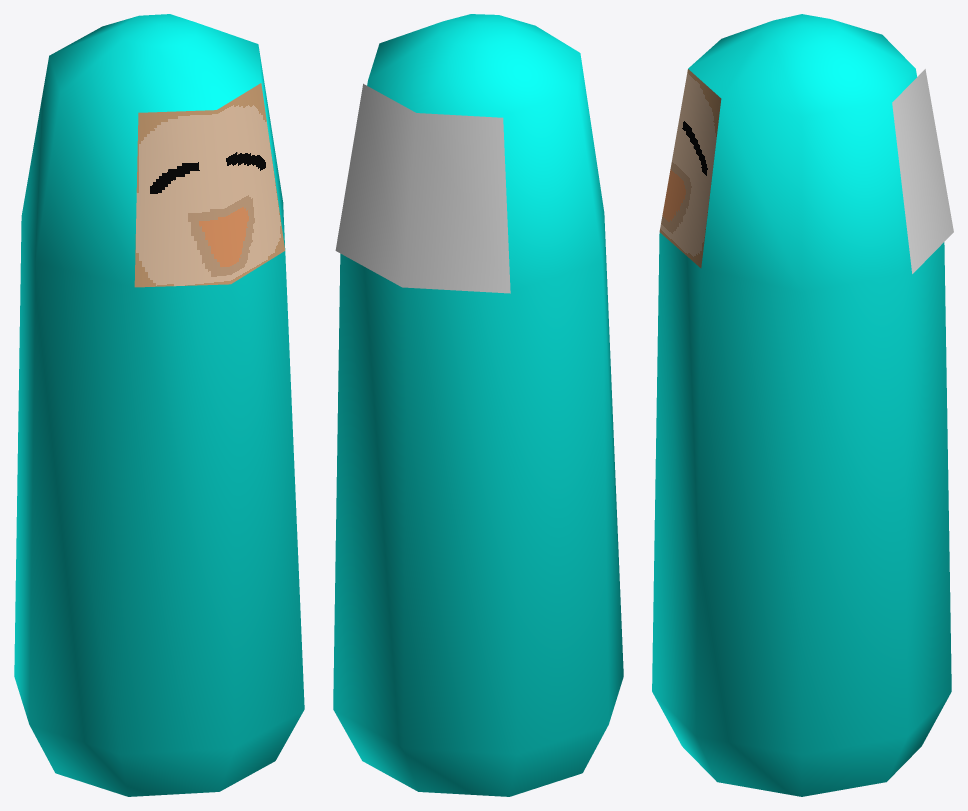
Rendered from OTA_N_05.glb.
3 views of the same model, side by side, from view 1: azimuth 30°, elevation 25°; view 2: azimuth 150°, elevation 25°; view 3: azimuth 270°, elevation 25° (orthographic).
Parts seen in each view (by area): view 1: FRAME_ROOT; view 2: FRAME_ROOT; view 3: FRAME_ROOT.
Part boxes in pixels (<box>): FRAME_ROOT: <box>14,14,304,796</box>; FRAME_ROOT: <box>333,14,623,796</box>; FRAME_ROOT: <box>652,14,953,796</box>.
Bounding box in the file's own units: 1.28 × 3.4 × 1.29.
Materials: 3 (3 with a texture image).
